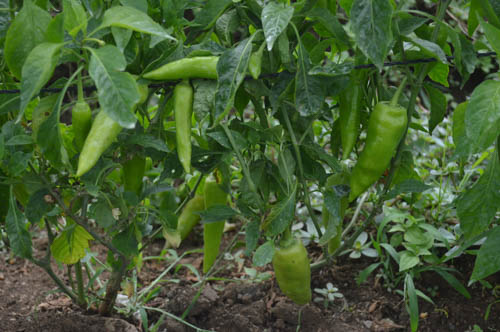ChiliPepper: (348, 104, 407, 204), (75, 113, 120, 177), (202, 181, 226, 270), (144, 57, 219, 85), (337, 84, 363, 163), (273, 246, 310, 300), (173, 84, 192, 173), (324, 175, 345, 250), (173, 197, 201, 240), (71, 106, 91, 152)
